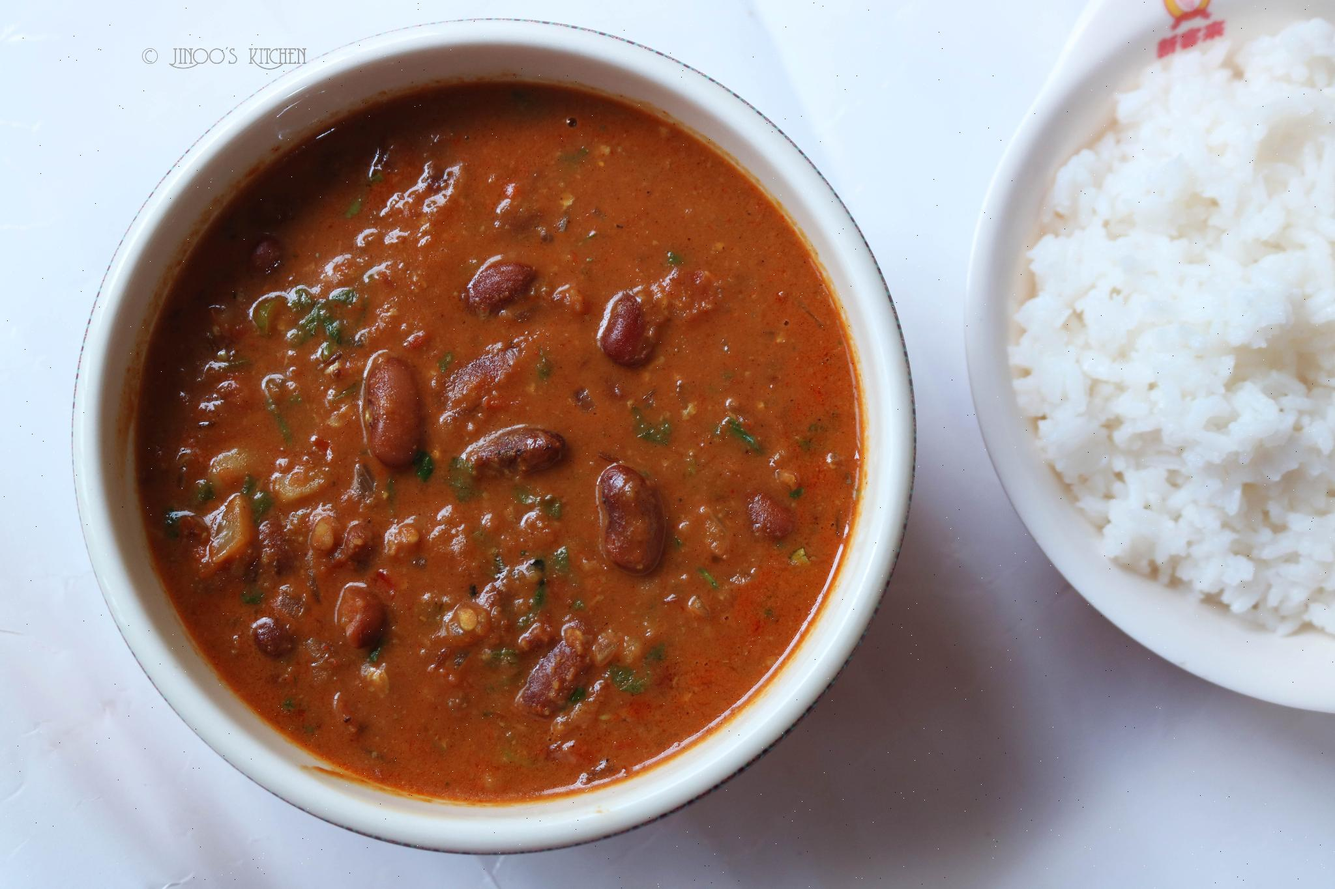rajma: (133, 84, 879, 791)
rice: (1044, 16, 1335, 660)
